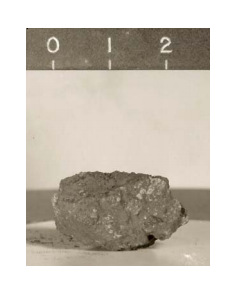Breccia: (43, 132, 188, 255)
